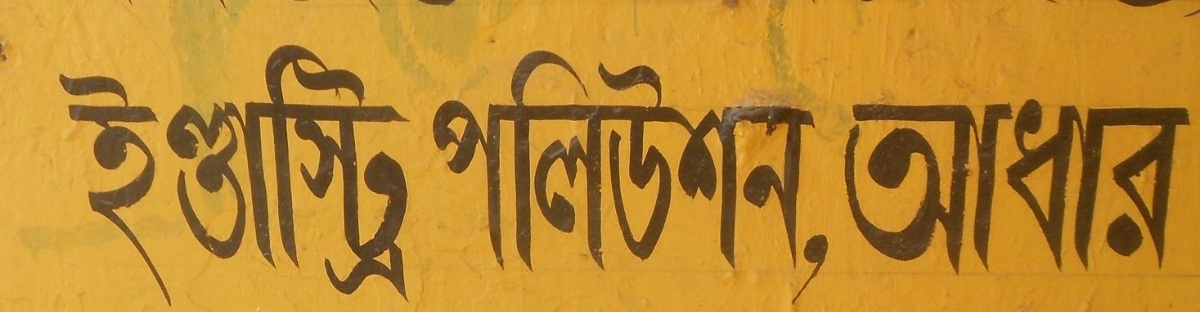text: (433, 42, 448, 312), (449, 42, 464, 312), (465, 42, 480, 312), (481, 42, 496, 312), (497, 42, 512, 312), (513, 42, 528, 312), (529, 42, 544, 312), (545, 42, 560, 312), (561, 42, 576, 312), (577, 42, 592, 312), (593, 42, 608, 312), (609, 42, 624, 312), (625, 42, 640, 312), (641, 42, 656, 312), (657, 42, 672, 312), (673, 42, 688, 312), (689, 42, 704, 312), (705, 42, 720, 312), (721, 42, 736, 312), (737, 42, 752, 312), (753, 42, 768, 312), (769, 42, 784, 312), (785, 42, 800, 312), (801, 42, 816, 312), (817, 42, 832, 312), (65, 44, 80, 311), (81, 44, 96, 311), (97, 44, 112, 311), (113, 44, 128, 311), (129, 44, 144, 311), (145, 44, 160, 311), (161, 44, 176, 311), (177, 44, 192, 311), (193, 44, 208, 311), (209, 44, 224, 311), (225, 44, 240, 311), (241, 44, 256, 311), (257, 44, 272, 311), (273, 44, 288, 311), (289, 44, 304, 311), (305, 44, 320, 311), (321, 44, 336, 311), (337, 44, 352, 311), (353, 44, 368, 311), (369, 44, 384, 311), (385, 44, 400, 311), (401, 44, 416, 311), (52, 44, 64, 311), (849, 94, 864, 283), (865, 94, 880, 283), (881, 94, 896, 283), (897, 94, 912, 283), (913, 94, 928, 283), (929, 94, 944, 283), (945, 94, 960, 283), (961, 94, 976, 283), (977, 94, 992, 283), (993, 94, 1008, 283), (1009, 94, 1024, 283), (1025, 94, 1040, 283), (1041, 94, 1056, 283), (1057, 94, 1072, 283), (1073, 94, 1088, 283), (1089, 94, 1104, 283), (1105, 94, 1120, 283), (1121, 94, 1136, 283), (1137, 94, 1152, 283), (1153, 94, 1168, 283), (1169, 94, 1184, 283), (417, 44, 427, 311), (1185, 94, 1192, 283), (842, 94, 848, 283), (353, 1, 368, 29), (369, 1, 384, 29), (385, 1, 400, 29), (401, 1, 416, 29), (417, 1, 432, 29), (433, 1, 448, 29), (449, 1, 464, 29), (465, 1, 480, 29), (481, 1, 496, 29), (1073, 1, 1088, 27), (1089, 1, 1104, 27), (1105, 1, 1120, 27), (1121, 1, 1136, 27), (1137, 1, 1152, 27), (1153, 1, 1168, 27), (1169, 1, 1183, 27), (833, 42, 834, 312), (497, 1, 506, 29), (1065, 1, 1072, 27), (348, 1, 352, 29)
